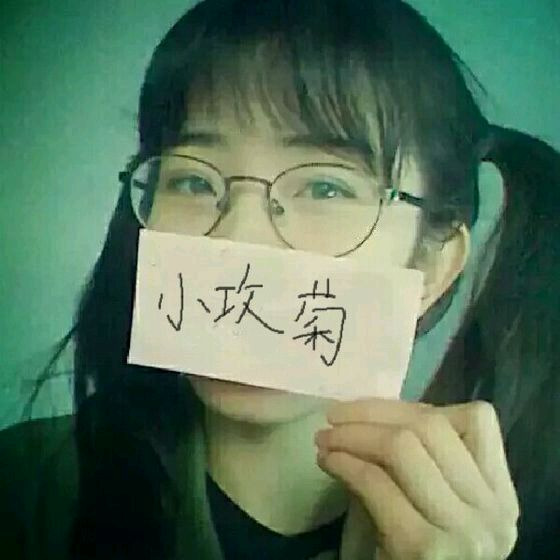face: (134, 63, 409, 419)
